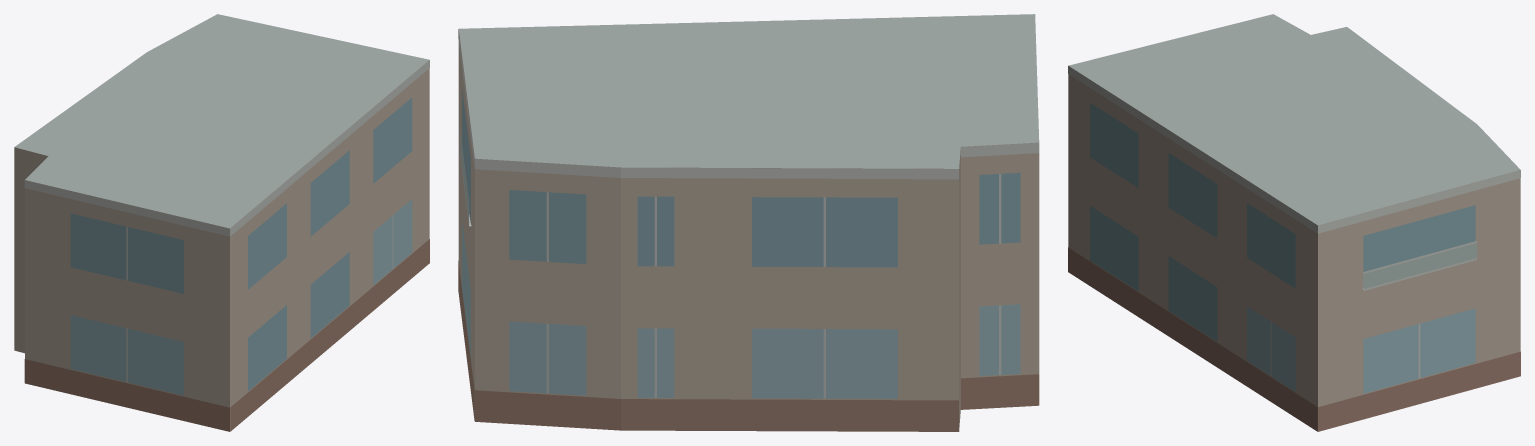
The model's file is survey-upis-32485163.glb.
3 views of the same model, side by side, from view 1: azimuth 30°, elevation 25°; view 2: azimuth 150°, elevation 25°; view 3: azimuth 270°, elevation 25° (orthographic). The views are drawn at different scales.
Visible parts, largest first — view 1: survey-upis-32485163.tmp; view 2: survey-upis-32485163.tmp; view 3: survey-upis-32485163.tmp.
Boxes of the visible parts, x1,y1,x2,y2 form: survey-upis-32485163.tmp: (14,14,429,431); survey-upis-32485163.tmp: (458,14,1039,431); survey-upis-32485163.tmp: (1068,14,1520,431).
Bounding box in the file's own units: 13.41 × 6.1 × 12.13.
